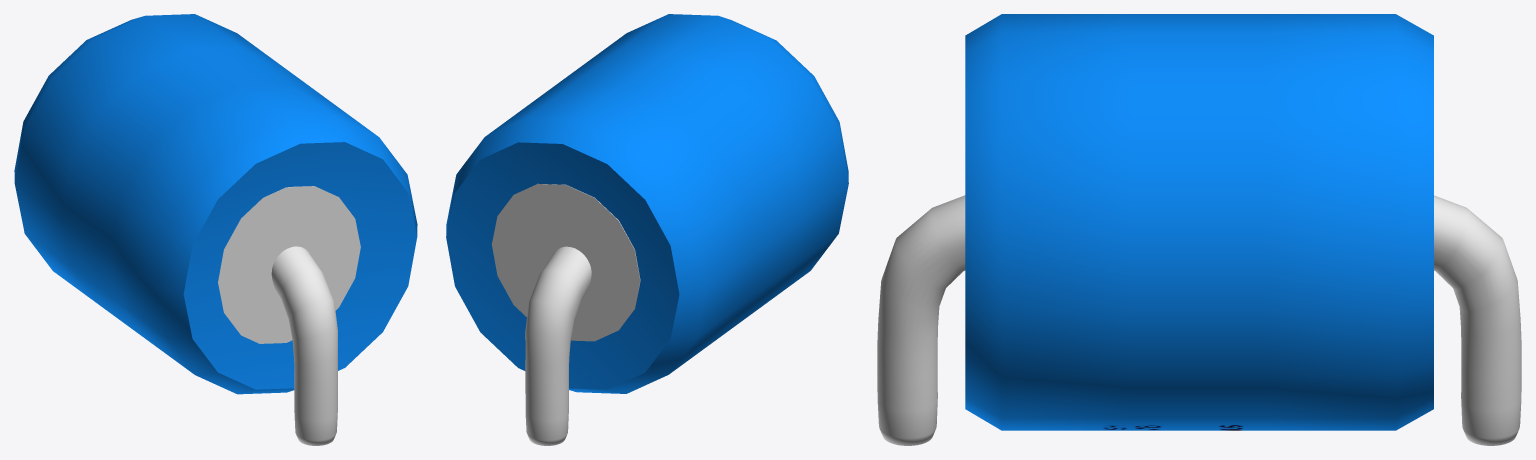
Rendered from Resistance.FBX.
3 views of the same model, side by side, from view 1: azimuth 30°, elevation 25°; view 2: azimuth 150°, elevation 25°; view 3: azimuth 270°, elevation 25° (orthographic). The views are drawn at different scales.
Parts seen in each view (by area): view 1: Resistance, Cylinder010; view 2: Resistance, Cylinder009; view 3: Resistance, Cylinder010, Cylinder009.
Boxes of the visible parts, x1,y1,x2,y2 form: Resistance: (14, 14, 417, 394); Cylinder010: (218, 186, 360, 445); Resistance: (446, 14, 848, 393); Cylinder009: (491, 183, 640, 445); Resistance: (965, 14, 1433, 430); Cylinder010: (877, 195, 965, 445); Cylinder009: (1434, 195, 1521, 445).
Bounding box in the file's own units: 1.52 × 1.63 × 2.35.
1 material, 1 textured.
